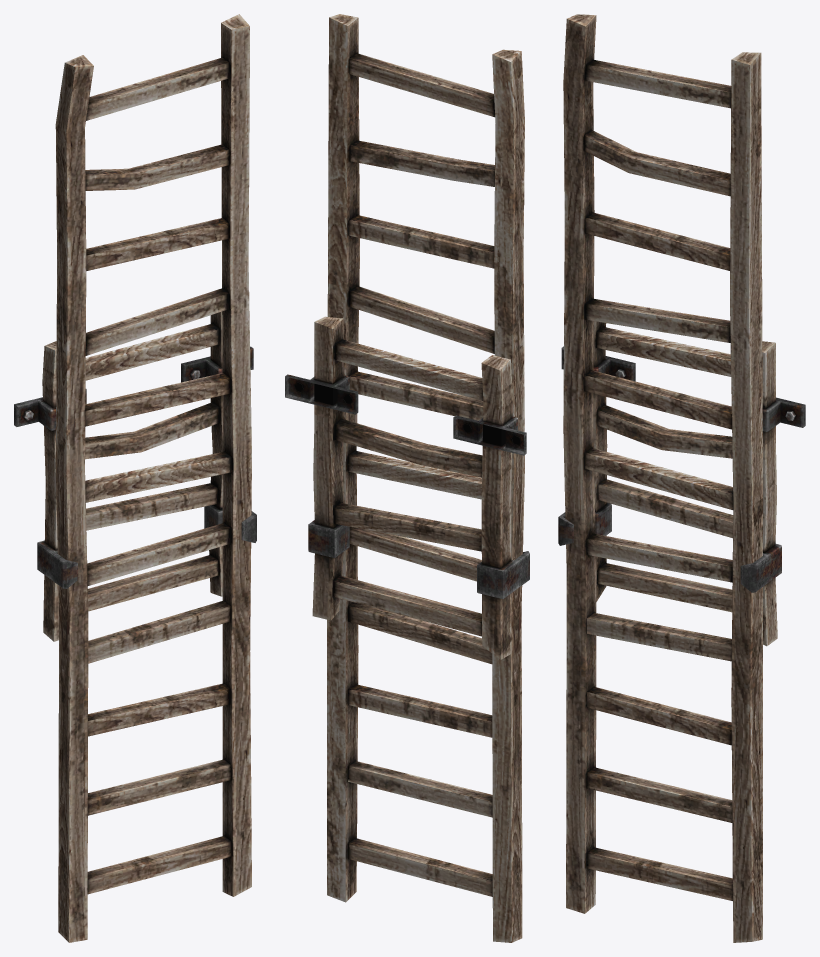
The model's file is ladder_moveable.dae.
3 views of the same model, side by side, from view 1: azimuth 30°, elevation 25°; view 2: azimuth 150°, elevation 25°; view 3: azimuth 330°, elevation 25° (orthographic).
Parts seen in each view (by area): view 1: ladder_moveable_moveable_mesh, ladder_moveable_mount_mesh; view 2: ladder_moveable_moveable_mesh, ladder_moveable_mount_mesh; view 3: ladder_moveable_moveable_mesh, ladder_moveable_mount_mesh.
Boxes of the visible parts, bbox=[...] form: ladder_moveable_moveable_mesh: bbox=[55, 14, 251, 942]; ladder_moveable_mount_mesh: bbox=[14, 311, 256, 641]; ladder_moveable_moveable_mesh: bbox=[327, 14, 524, 942]; ladder_moveable_mount_mesh: bbox=[285, 316, 529, 659]; ladder_moveable_moveable_mesh: bbox=[563, 14, 762, 942]; ladder_moveable_mount_mesh: bbox=[558, 321, 805, 646].
Bounding box in the file's own units: 1.28 × 4.52 × 0.2769.
